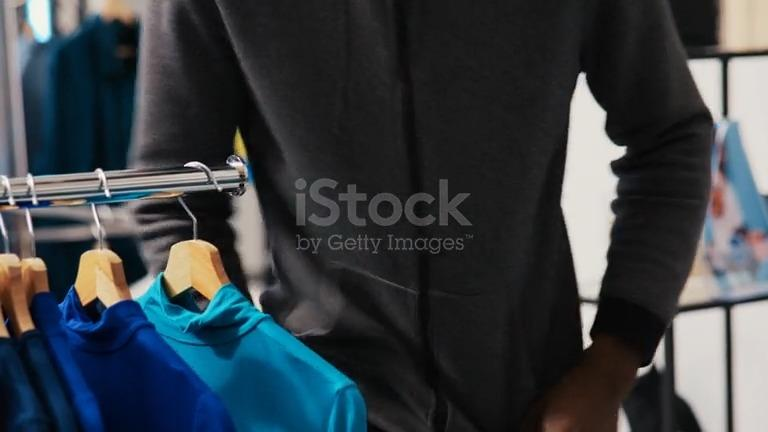Shoplifting: (186, 0, 731, 432)
